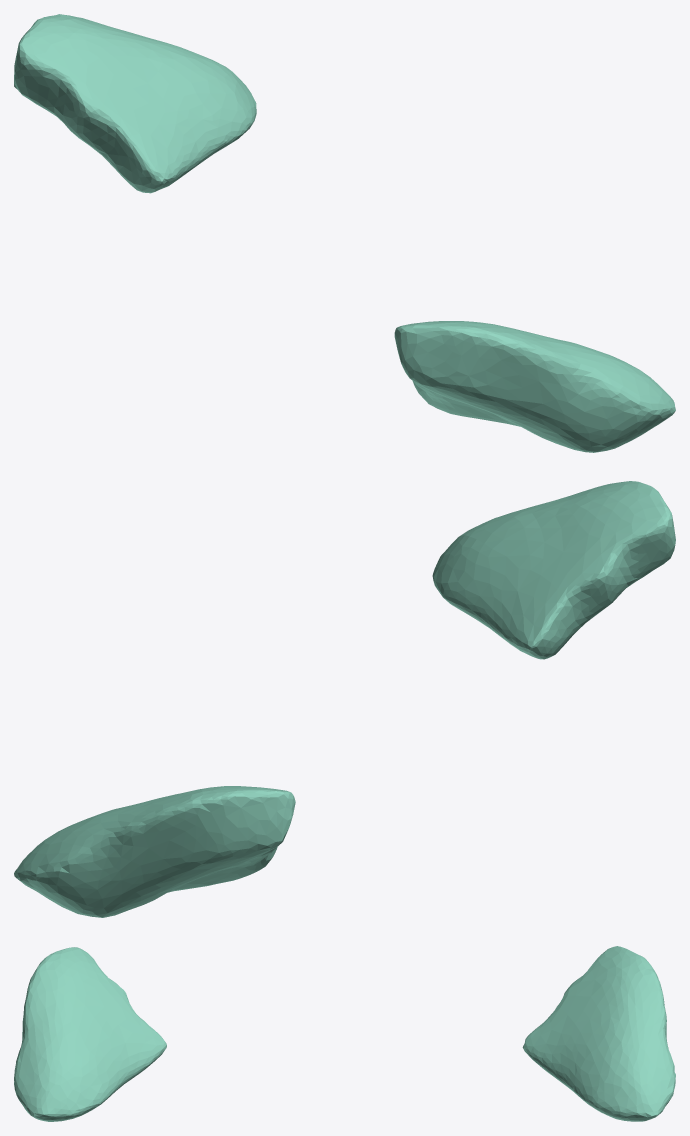
3 renders of one model, top to bottom at view 1: azimuth 30°, elevation 25°; view 2: azimuth 150°, elevation 25°; view 3: azimuth 270°, elevation 25°, orthographic. The views are drawn at different scales.
Parts seen in each view (by area): view 1: 647.obj; view 2: 647.obj; view 3: 647.obj.
Boxes of the visible parts, x1,y1,x2,y2 form: 647.obj: (14, 14, 675, 452); 647.obj: (14, 481, 675, 917); 647.obj: (14, 946, 675, 1121).
Size of the model in its own units: 2214 by 1293 by 7112.
